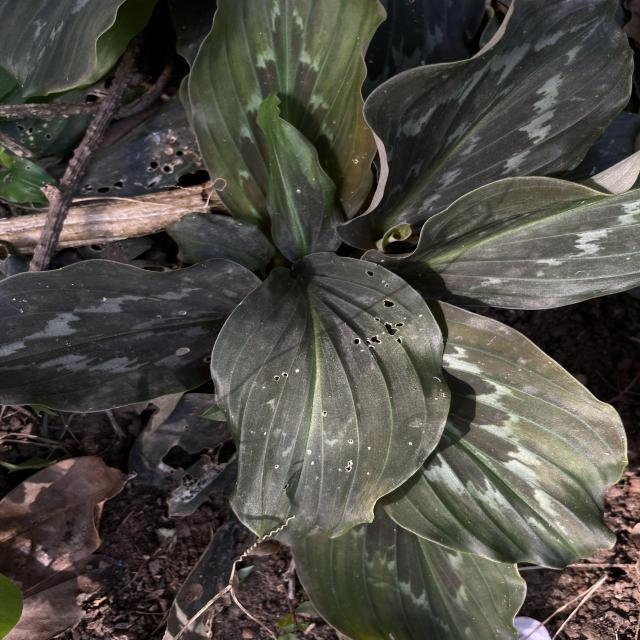Kaempferia galanga linn: (334, 0, 636, 254), (206, 248, 456, 550), (378, 294, 630, 572), (184, 0, 390, 231), (358, 148, 640, 312), (0, 255, 264, 415), (254, 90, 349, 265)
